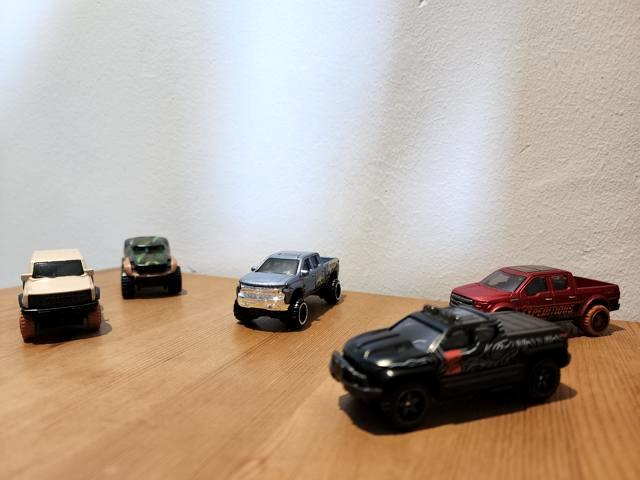toy-car: (329, 305, 572, 431), (449, 264, 620, 337), (233, 250, 341, 328), (17, 249, 100, 344), (120, 236, 182, 299)
